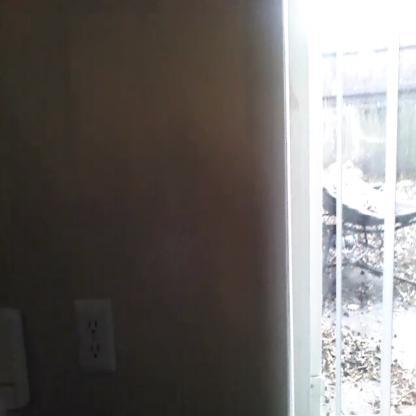OUTLET: (72, 298, 115, 376)
